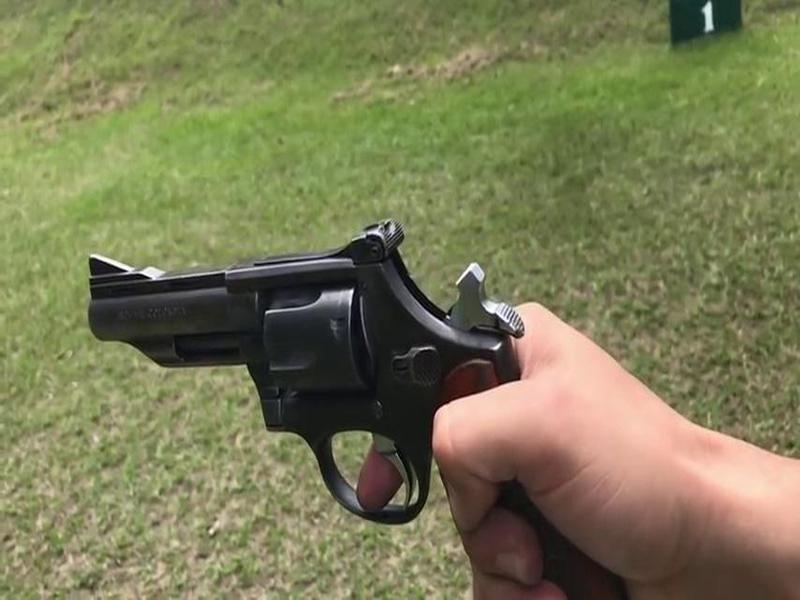Revolver: (77, 218, 532, 541)
